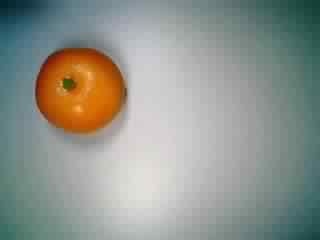orange: (31, 40, 128, 137)
